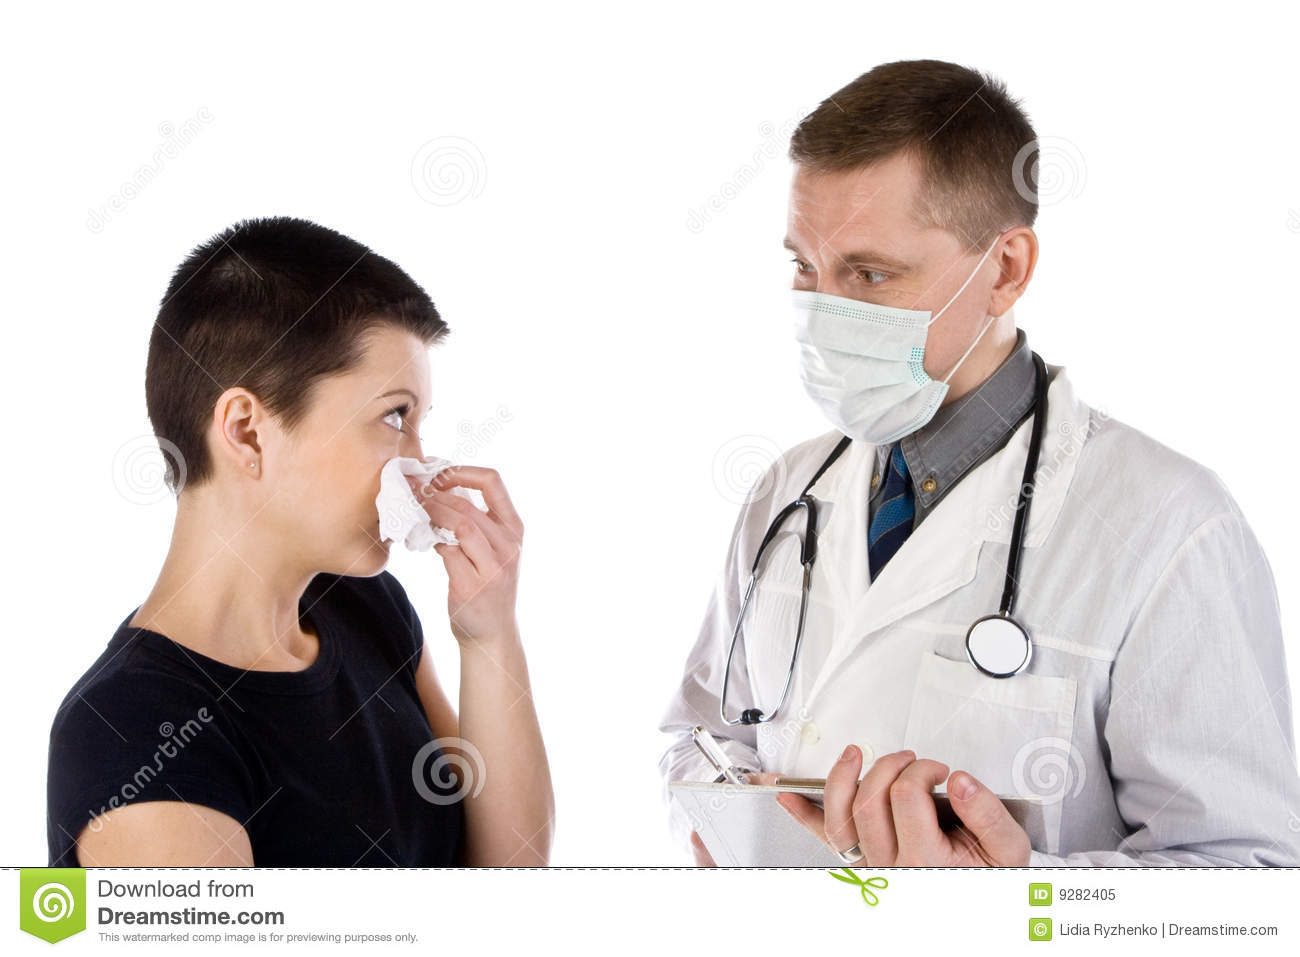mask: (781, 289, 950, 446)
